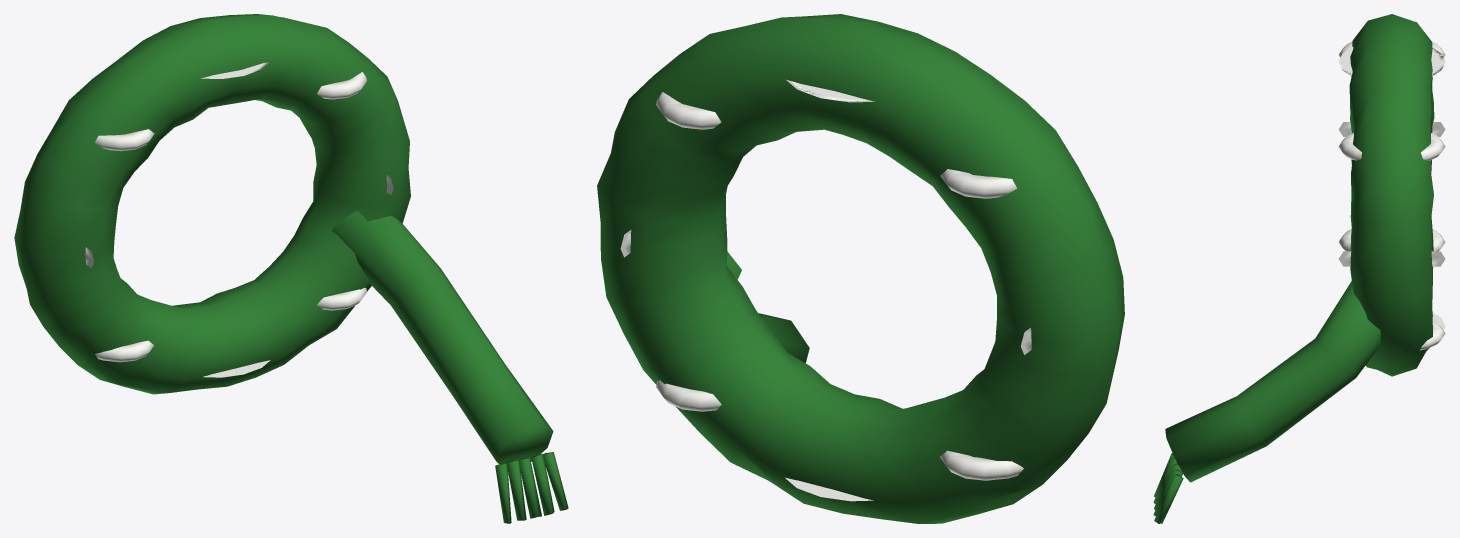
The model's file is cosmetics-scarf.glb.
3 views of the same model, side by side, from view 1: azimuth 30°, elevation 25°; view 2: azimuth 150°, elevation 25°; view 3: azimuth 270°, elevation 25° (orthographic). The views are drawn at different scales.
Parts seen in each view (by area): view 1: Scarf__Wrap, Scarf__Tail, Scarf__Stripes; view 2: Scarf__Wrap, Scarf__Stripes, Scarf__Tail; view 3: Scarf__Wrap, Scarf__Tail, Scarf__Stripes.
Boxes of the visible parts, <box> form: Scarf__Wrap: <box>14,14,410,394</box>; Scarf__Tail: <box>332,210,568,523</box>; Scarf__Stripes: <box>85,62,393,377</box>; Scarf__Wrap: <box>597,14,1124,523</box>; Scarf__Stripes: <box>620,79,1031,501</box>; Scarf__Tail: <box>727,251,809,362</box>; Scarf__Wrap: <box>1349,14,1434,376</box>; Scarf__Tail: <box>1153,281,1380,523</box>; Scarf__Stripes: <box>1338,42,1445,350</box>.
Bounding box in the file's own units: 1.75 × 1.81 × 1.2.
